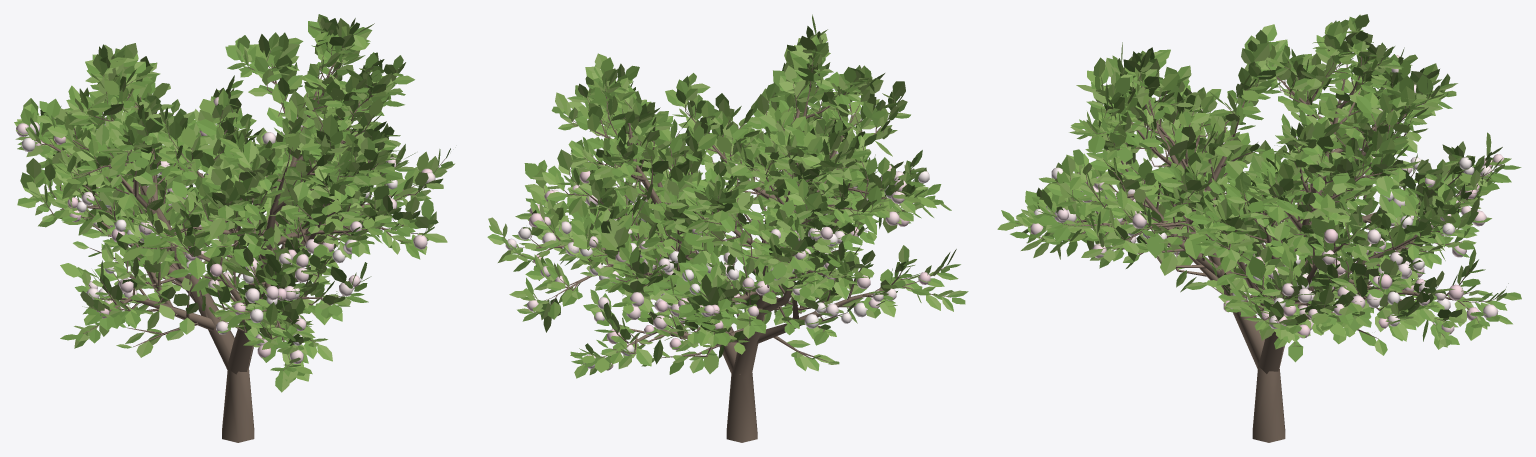
The model's file is cognassier_printemps.glb.
3 views of the same model, side by side, from view 1: azimuth 30°, elevation 25°; view 2: azimuth 150°, elevation 25°; view 3: azimuth 270°, elevation 25° (orthographic). The views are drawn at different scales.
Parts seen in each view (by area): view 1: Cognassier_Feuillage, Cognassier_Tronc, Cognassier_Fleurs; view 2: Cognassier_Feuillage, Cognassier_Tronc, Cognassier_Fleurs; view 3: Cognassier_Feuillage, Cognassier_Tronc, Cognassier_Fleurs.
Part boxes in pixels (x1,y1,x2,y2): Cognassier_Feuillage: [14, 14, 454, 392]; Cognassier_Tronc: [33, 33, 445, 442]; Cognassier_Fleurs: [16, 97, 435, 363]; Cognassier_Feuillage: [487, 14, 968, 378]; Cognassier_Tronc: [501, 55, 951, 442]; Cognassier_Fleurs: [505, 151, 930, 370]; Cognassier_Feuillage: [997, 14, 1521, 362]; Cognassier_Tronc: [1016, 29, 1502, 442]; Cognassier_Fleurs: [1030, 55, 1504, 338].
Size of the model in its own units: 3.1 by 2.61 by 3.24.
